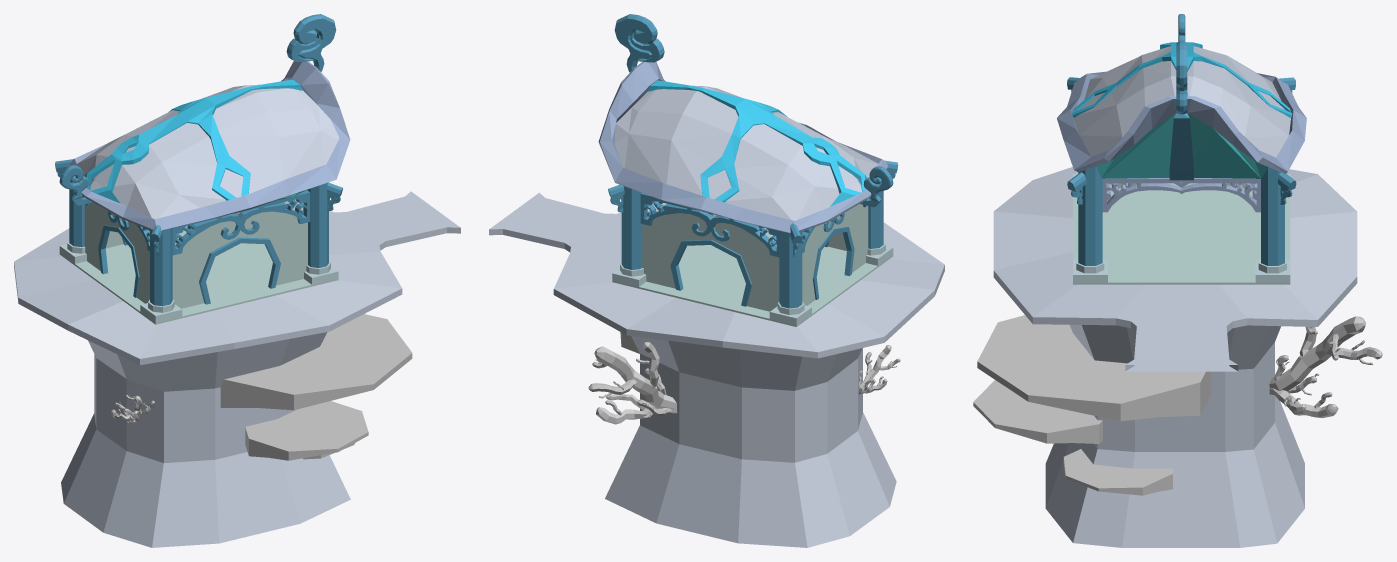
Rendered from Water House map.fbx.
The picture shows the model from 3 angles, left to right: view 1: azimuth 30°, elevation 25°; view 2: azimuth 150°, elevation 25°; view 3: azimuth 270°, elevation 25°; orthographic projection. The views are drawn at different scales.
Parts seen in each view (by area): view 1: Object018, Object022.001, Object019, Cylinder012; view 2: Object018, Object022.001, Cylinder013, Cylinder012; view 3: Object018, Object022.001, Object019, Cylinder013.
Boxes of the visible parts, x1,y1,x2,y2 form: Object018: [14, 191, 460, 547]; Object022.001: [55, 14, 350, 324]; Object019: [220, 314, 412, 460]; Cylinder012: [111, 395, 154, 423]; Object018: [489, 192, 944, 547]; Object022.001: [598, 14, 898, 326]; Cylinder013: [588, 342, 677, 424]; Cylinder012: [858, 345, 900, 394]; Object018: [993, 167, 1357, 547]; Object022.001: [1057, 14, 1306, 284]; Object019: [973, 315, 1210, 495]; Cylinder013: [1269, 316, 1382, 418].
Bounding box in the file's own units: 1180 × 1281 × 942.
